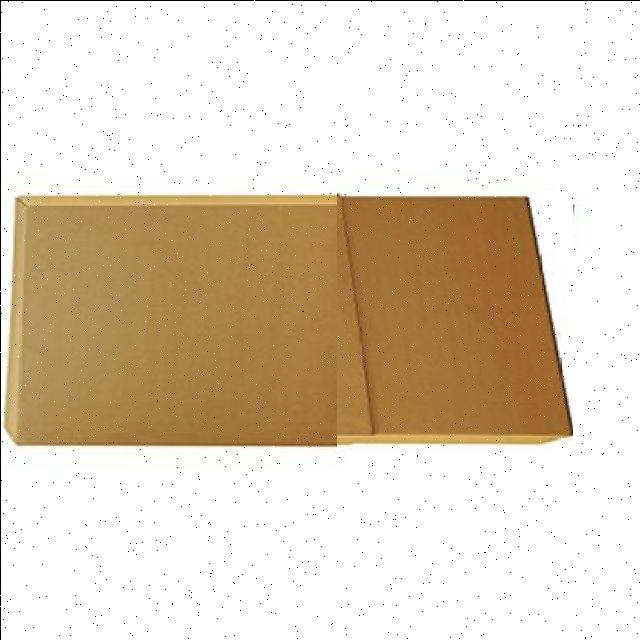normal: (7, 192, 376, 450), (336, 189, 572, 449)
